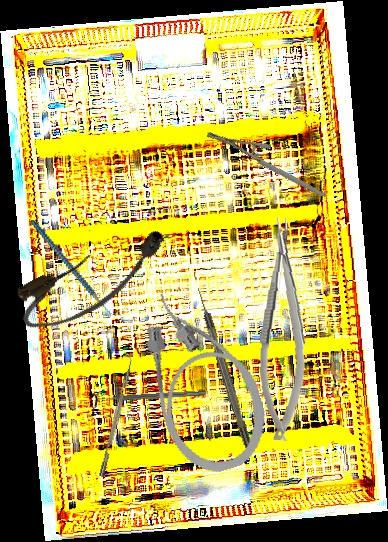Cannula: (129, 275, 278, 483), (9, 220, 180, 340)
Chopper: (29, 202, 123, 336), (92, 352, 137, 478)
Fixation Ring: (91, 384, 206, 410)
Hook Surgical: (194, 286, 253, 449)
Needle Holder: (203, 101, 328, 229), (254, 216, 313, 442)
